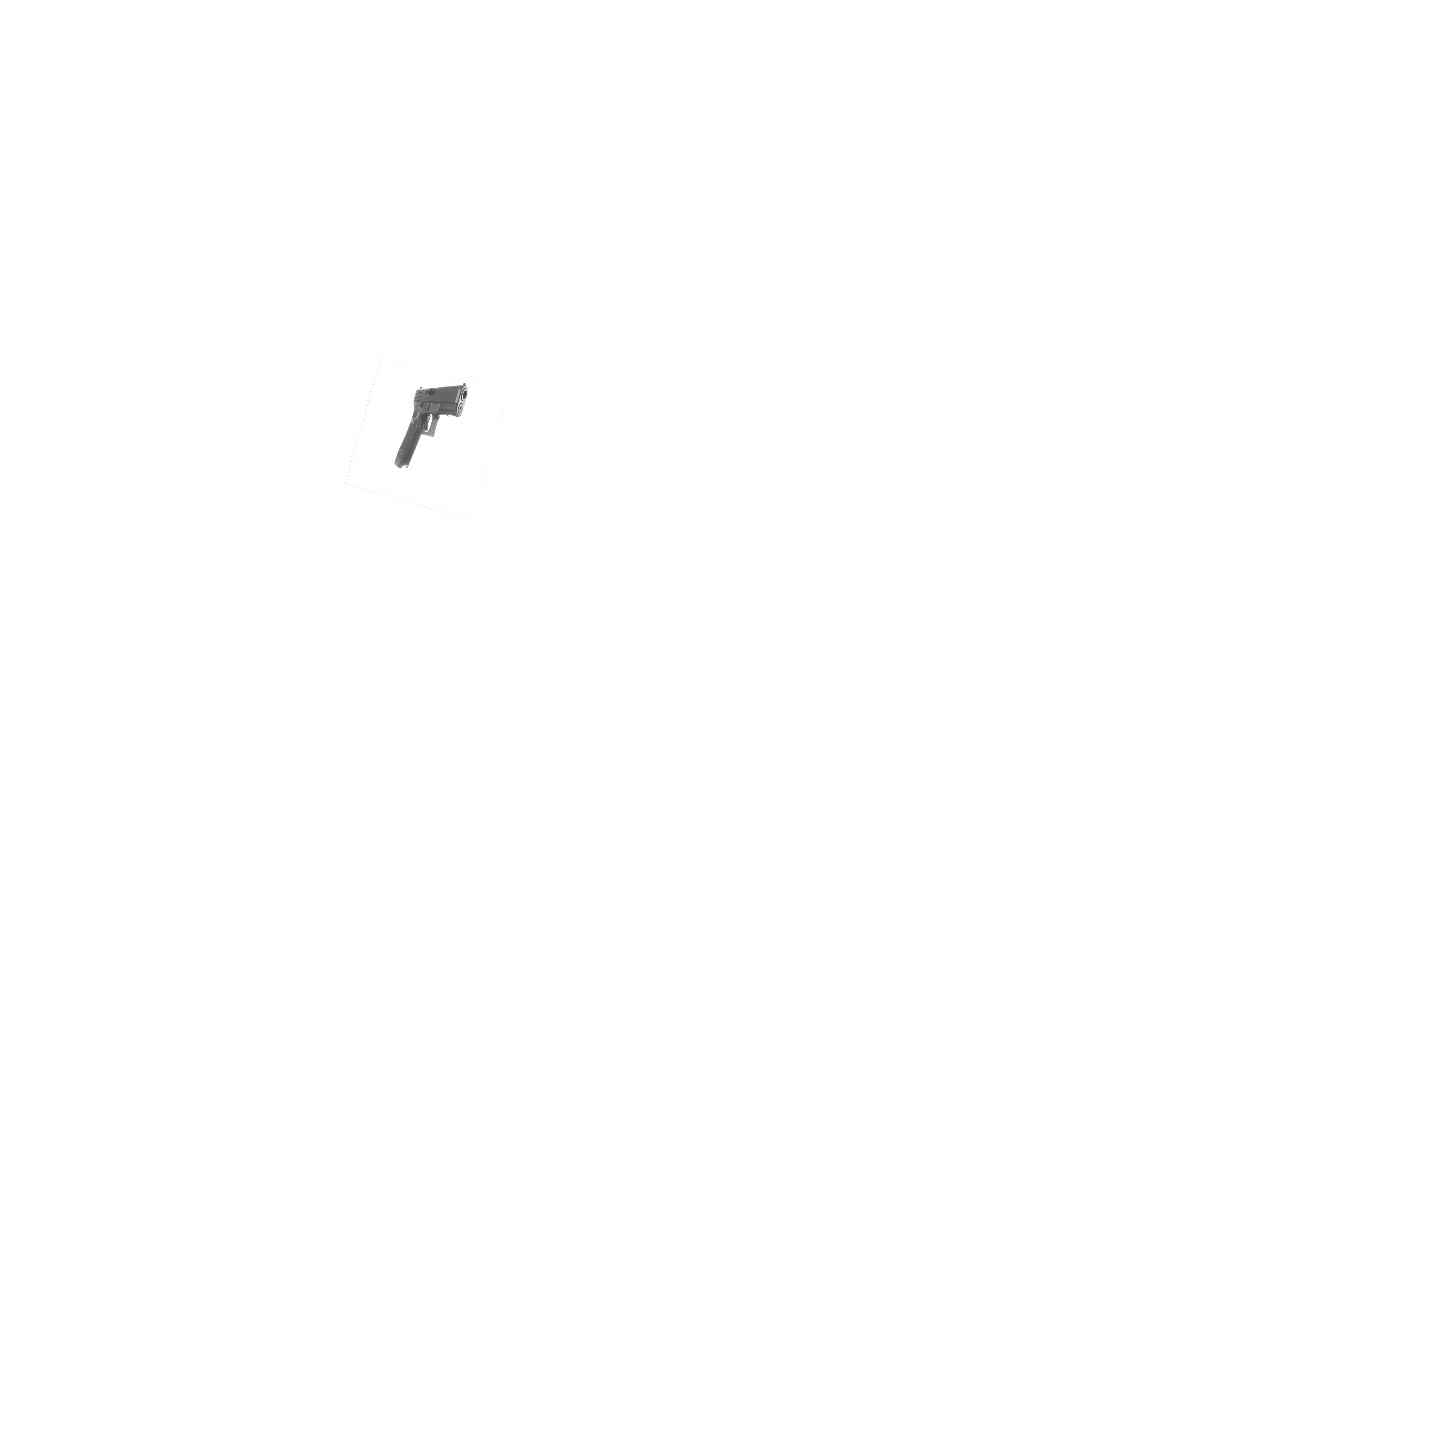gun: (388, 379, 473, 471)
